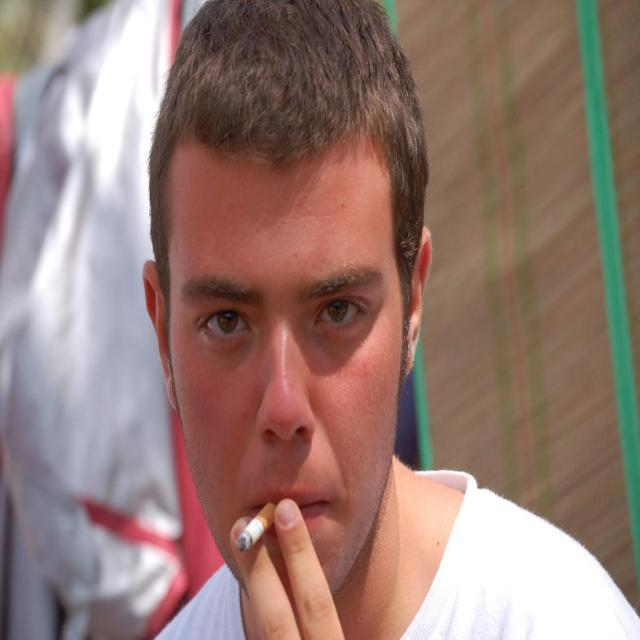Eyebags: (311, 316, 364, 366), (201, 331, 253, 371)
